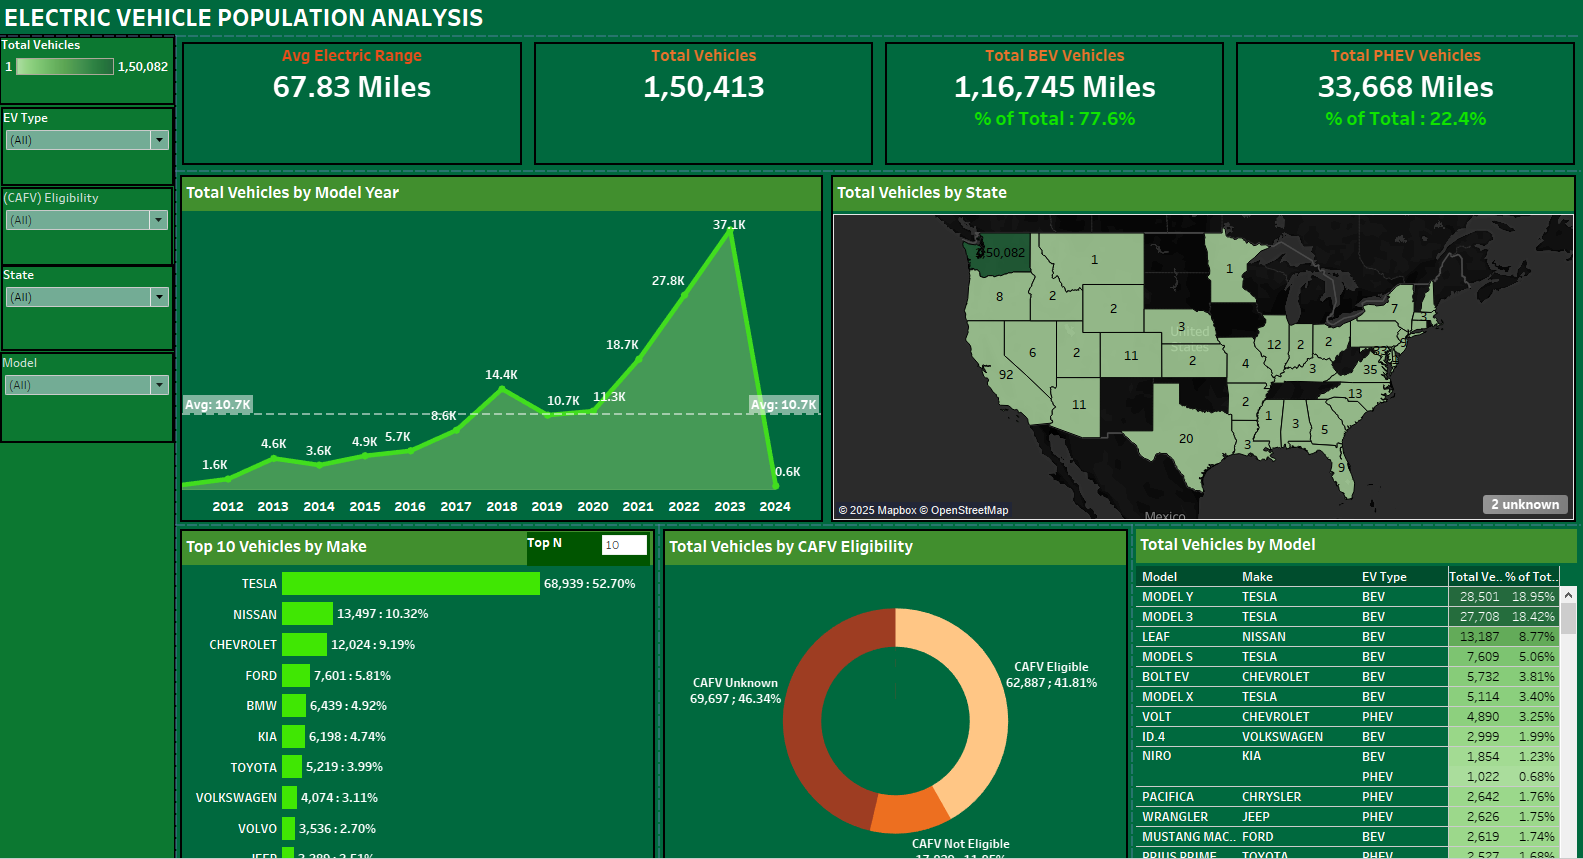

This screenshot's page, from the dashboard's own definition file:
{"tool":"tableau","page":{"name":"Dashboard 1","canvas":[1600,900],"ordinal":0},"visuals":[{"type":"title","box":[8,8,1584,40]},{"type":"worksheet","title":"Avg Electric Range","mark":"Automatic","box":[181,48,353,130]},{"type":"worksheet","title":"Total Vehicles","mark":"Automatic","box":[534,48,353,130]},{"type":"worksheet","title":"Total BEV Vehicles","mark":"Automatic","box":[887,48,353,130]},{"type":"worksheet","title":"Total PHEV Vehicles","mark":"Automatic","box":[1240,48,352,130]},{"type":"legend","title":"Total Vehicles by State","param":"[federated.121vso91ufamwc1gqtwi91ap9co1].[usr:Calculation_613896989328658432:qk]","box":[9,50,170,54]},{"type":"filter","title":"Total Vehicles by Model","param":"[federated.121vso91ufamwc1gqtwi91ap9co1].[none:Electric Vehicle Type:nk]","box":[9,112,168,82]},{"type":"worksheet","title":"Total Vehicles by Model year","mark":"Area","rows":["Calculation_613896989328658432","Calculation_613896989328658432"],"cols":["Model Year"],"box":[181,178,655.5,357]},{"type":"worksheet","title":"Total Vehicles by State","mark":"Multipolygon","box":[836.5,178,755.5,357]},{"type":"filter","title":"Total Vehicles by CAFV Eligibility","param":"[federated.121vso91ufamwc1gqtwi91ap9co1].[none:Clean Alternative Fuel Vehicle (C","box":[9,196,169,83]},{"type":"filter","title":"Total Vehicles by Model","param":"[federated.121vso91ufamwc1gqtwi91ap9co1].[none:Model:nk]","box":[10,277,168,80]},{"type":"filter","title":"Total Vehicles by State","param":"[federated.121vso91ufamwc1gqtwi91ap9co1].[none:State:nk]","box":[12,358,168,86]},{"type":"worksheet","title":"Top 10 Vehicles by Make","mark":"Automatic","rows":["Make"],"cols":["Calculation_613896989328658432"],"box":[182,536,504,355]},{"type":"worksheet","title":"Total Vehicles by CAFV Eligibility","mark":"Pie","rows":["Calculation_613896989359185928","Calculation_613896989359185928"],"box":[686,536,373,355]},{"type":"worksheet","title":"Total Vehicles by Model","mark":"Square","rows":["Model","Make","Electric Vehicle Type"],"box":[1059,536,532,355]},{"type":"parameter","param":"[Parameters].[Parameter 1]","box":[511,545,167,29]}]}

Visuals, with their boxes in screenshot pixels (x1, y1, x2, y2):
title: <bbox>8, 4, 1551, 43</bbox>
"Avg Electric Range" worksheet: <bbox>176, 43, 520, 169</bbox>
"Total Vehicles" worksheet: <bbox>520, 43, 864, 169</bbox>
"Total BEV Vehicles" worksheet: <bbox>864, 43, 1208, 169</bbox>
"Total PHEV Vehicles" worksheet: <bbox>1208, 43, 1551, 169</bbox>
"Total Vehicles by State" legend: <bbox>9, 45, 174, 97</bbox>
"Total Vehicles by Model" filter: <bbox>9, 105, 172, 185</bbox>
"Total Vehicles by Model year" worksheet (Area marks): <bbox>176, 169, 815, 517</bbox>
"Total Vehicles by State" worksheet (Multipolygon marks): <bbox>815, 169, 1551, 517</bbox>
"Total Vehicles by CAFV Eligibility" filter: <bbox>9, 187, 173, 268</bbox>
"Total Vehicles by Model" filter: <bbox>10, 266, 173, 344</bbox>
"Total Vehicles by State" filter: <bbox>12, 345, 175, 428</bbox>
"Top 10 Vehicles by Make" worksheet: <bbox>177, 518, 668, 858</bbox>
"Total Vehicles by CAFV Eligibility" worksheet (Pie marks): <bbox>668, 518, 1032, 858</bbox>
"Total Vehicles by Model" worksheet (Square marks): <bbox>1032, 518, 1550, 858</bbox>
parameter: <bbox>498, 527, 660, 555</bbox>
